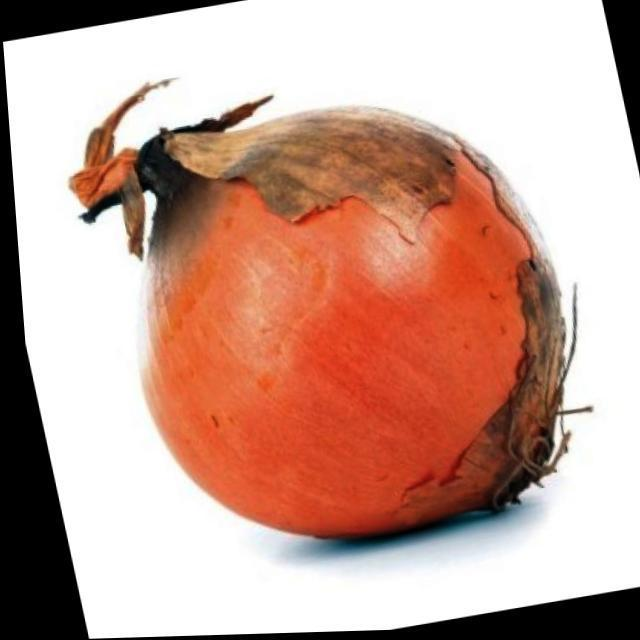Onion: (54, 31, 630, 628)
